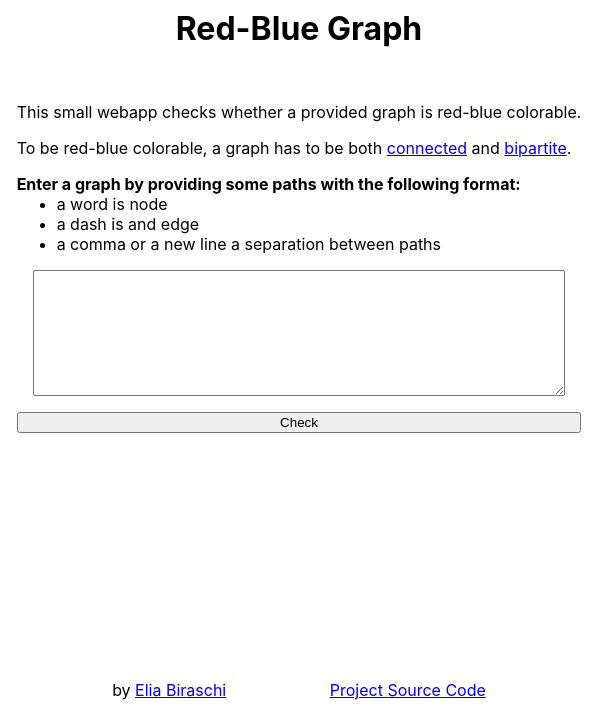
Test: the result should appear
Type "a-b-c" into the text box. click: (299, 333)
box: [33,270,565,396]
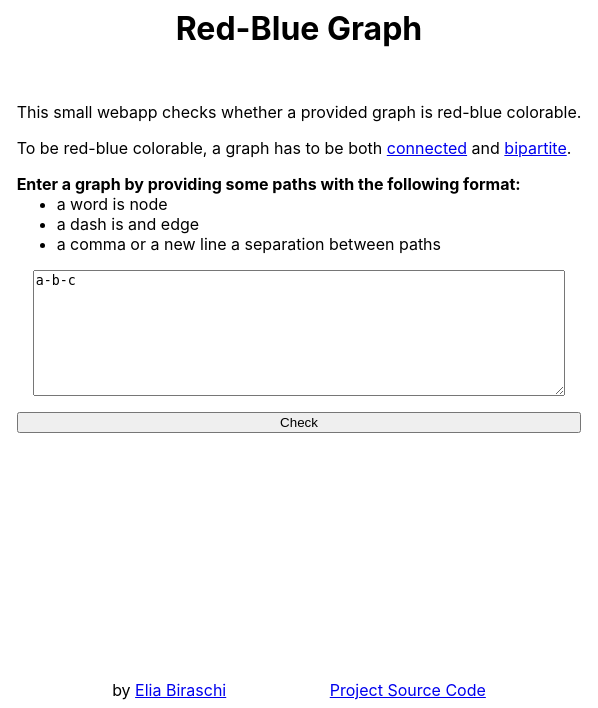
Click the button. click: (299, 422)
box: [17,412,581,433]
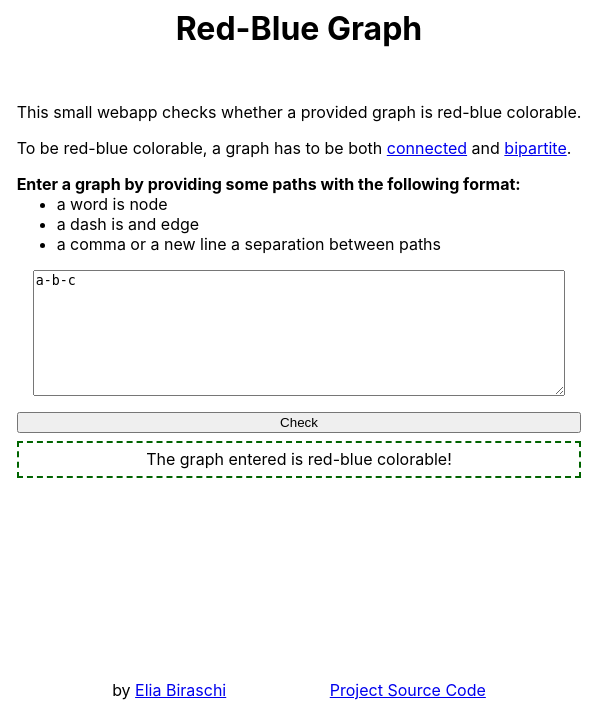
Now the text "The graph entered is red-blue colorable!" is shown, box [17,441,581,478]
